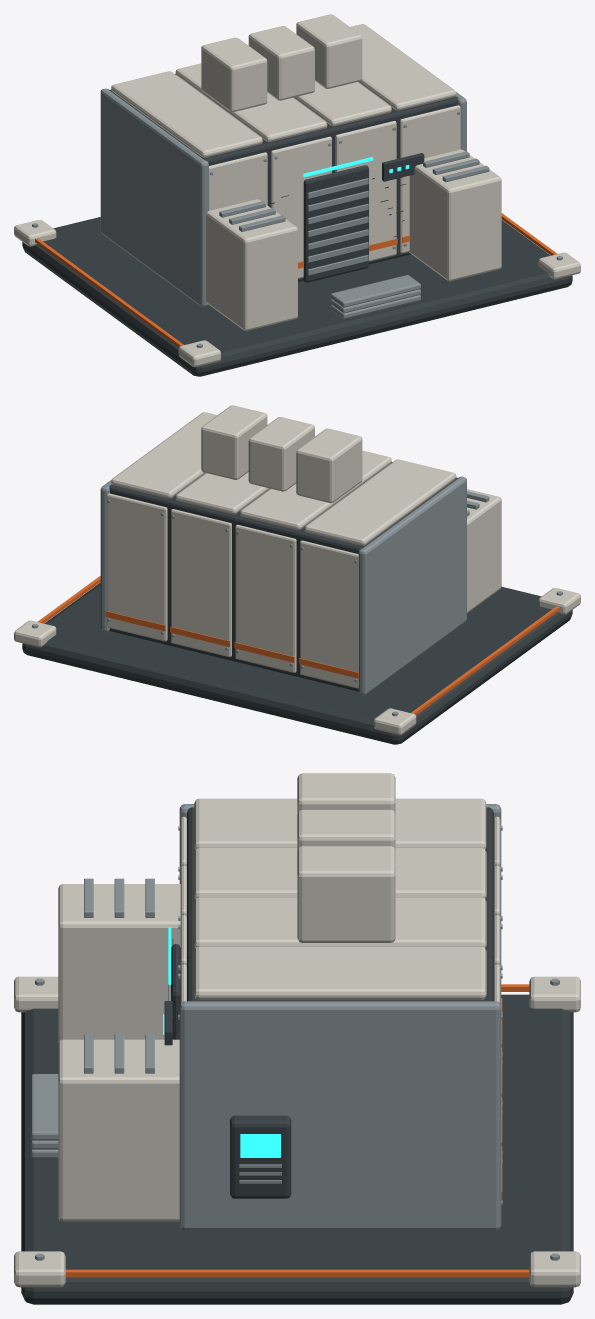
Rendered from SM_PrecisionEngineeringPlant_Body.002.fbx.
3 renders of one model, top to bottom at view 1: azimuth 30°, elevation 25°; view 2: azimuth 150°, elevation 25°; view 3: azimuth 270°, elevation 25°, orthographic. The views are drawn at different scales.
Parts seen in each view (by area): view 1: SM_PrecisionEngineeringPlant_Body.002; view 2: SM_PrecisionEngineeringPlant_Body.002; view 3: SM_PrecisionEngineeringPlant_Body.002.
Part boxes in pixels (box(x1,y1,x2,y2)): SM_PrecisionEngineeringPlant_Body.002: box(14, 14, 580, 376); SM_PrecisionEngineeringPlant_Body.002: box(14, 405, 580, 744); SM_PrecisionEngineeringPlant_Body.002: box(14, 773, 580, 1304).
Bounding box in the file's own units: 572 × 462 × 307.
